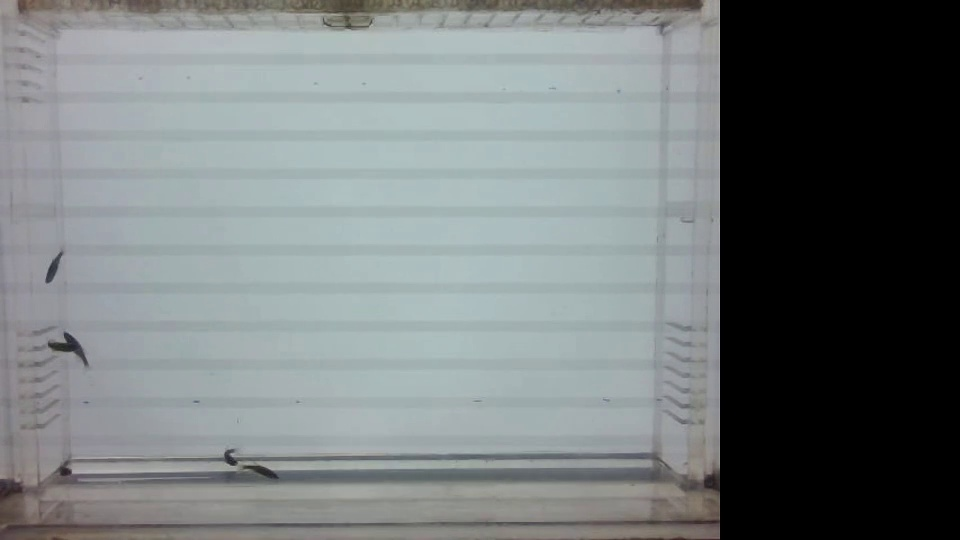fish: (32, 244, 70, 288), (240, 456, 284, 484), (62, 328, 92, 364), (37, 336, 80, 356), (216, 441, 240, 472), (56, 456, 76, 480)
